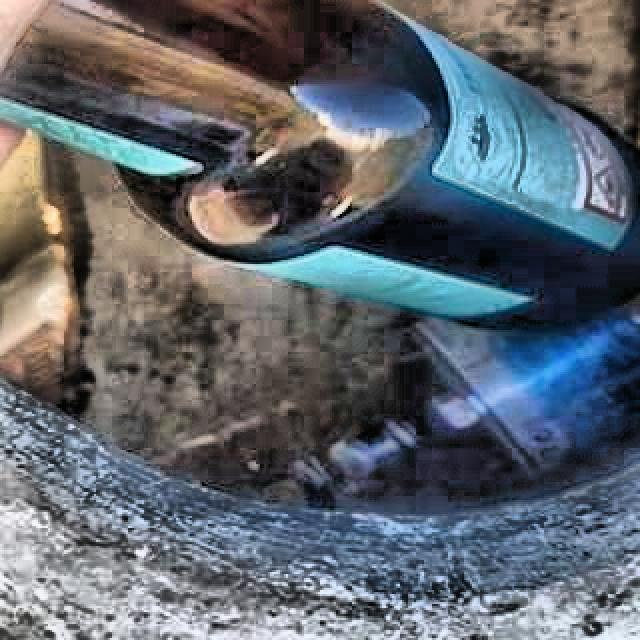glass: (0, 0, 640, 331)
